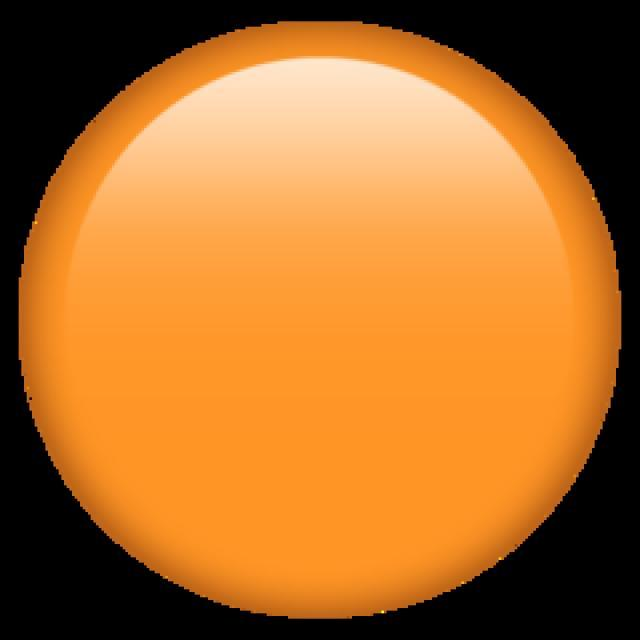Circle: (21, 19, 621, 619)
